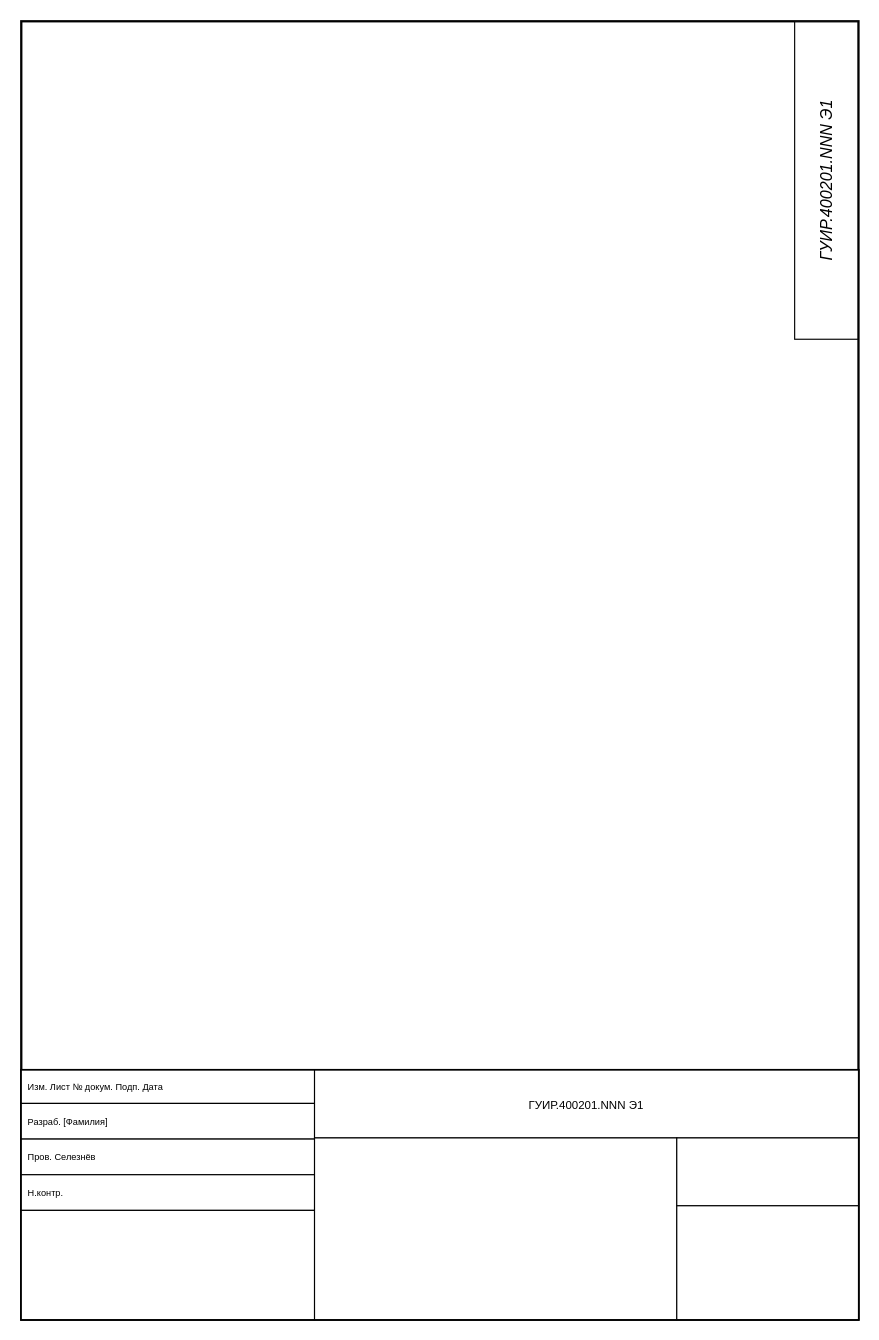
This 879x1340 diagram has some shape labels left out. Each missing label, with the centre of its shape:
БГУИР, каф. ЭВМ гр. [номер группы]: the point at 767,1262
Лит. У Лист 1 Листов 1: the point at 767,1171
Утв.: the point at 167,1264
